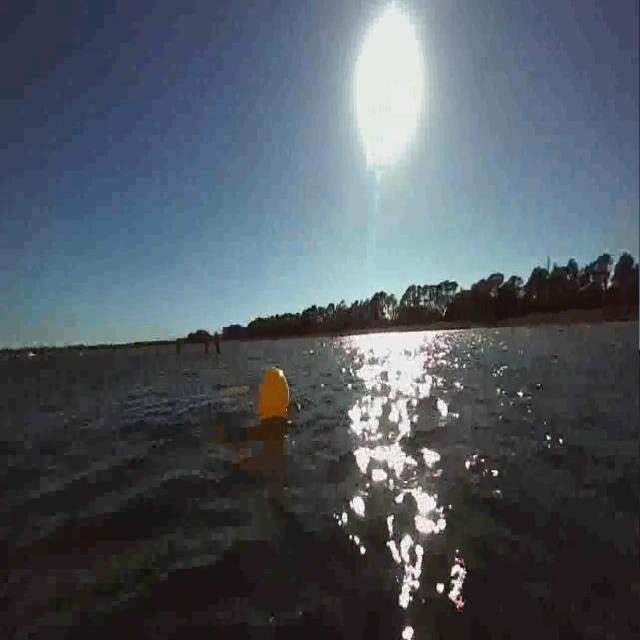yellow-buoy: (256, 368, 290, 419)
